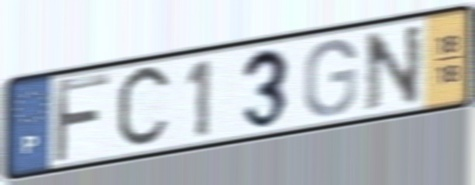1: (185, 57, 213, 141)
3: (239, 43, 296, 135)
C: (113, 60, 175, 156)
F: (51, 71, 114, 168)
G: (301, 35, 360, 119)
N: (362, 21, 425, 115)
